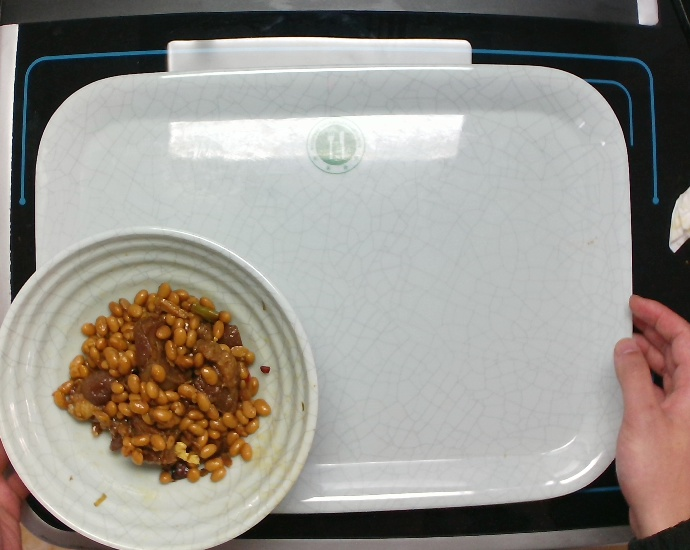JYsf-Da_Tang_Wan: (1, 221, 324, 550)
